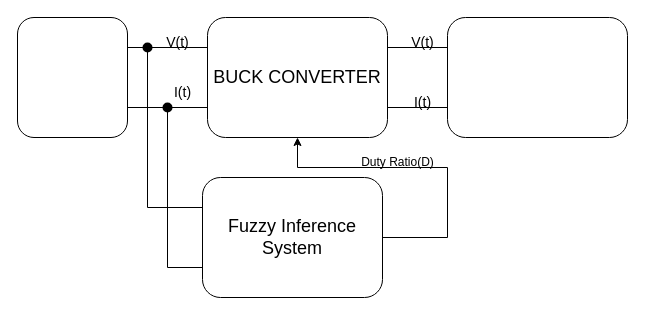
Some shapes in this 645 by 315 pixel diagram are drawn without their labels. Each missing label, with the centre of its shape:
BATTERY: pixel 537 77
PV MODULE: pixel 72 77
